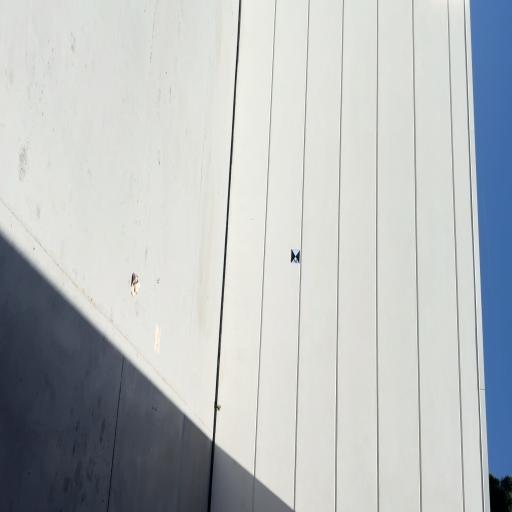target7: (291, 248, 300, 265)
